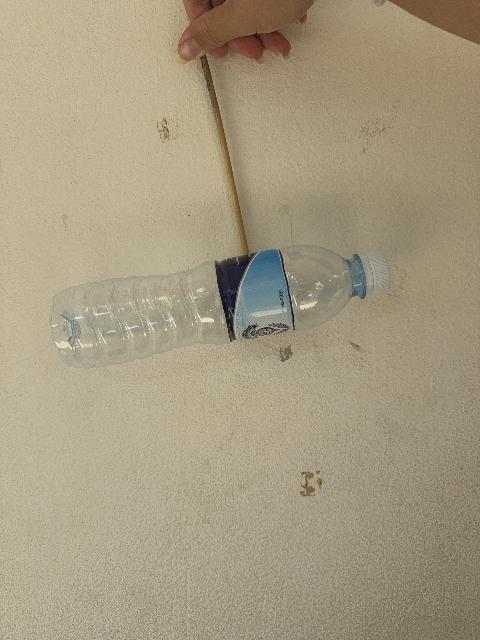bottle: (51, 246, 390, 367)
